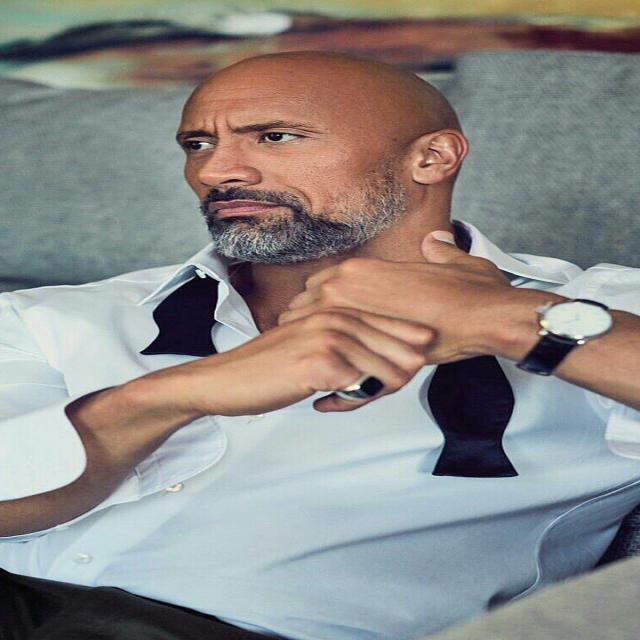beard: (200, 168, 408, 264)
